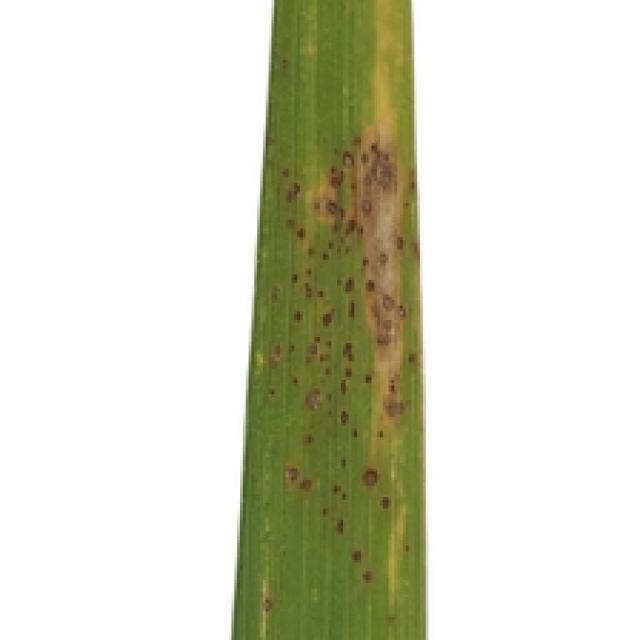Rice___Brown_Spot: (229, 2, 428, 637)
